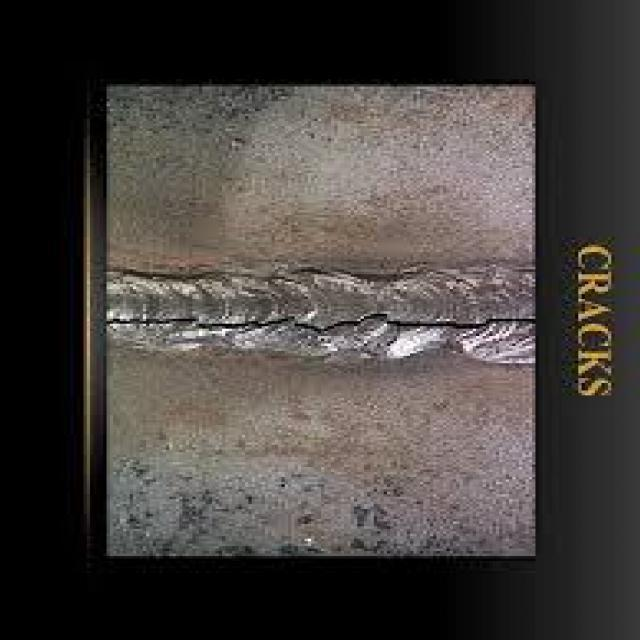Crack: (103, 309, 538, 340)
